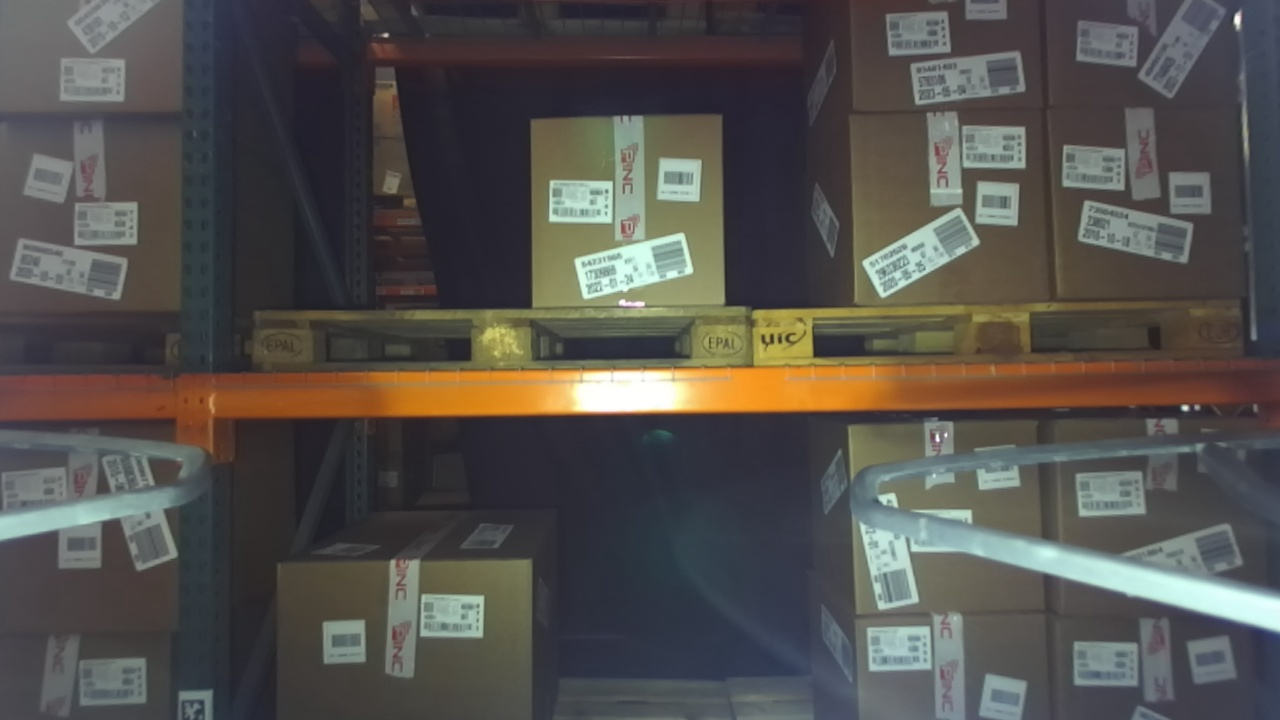box: (1028, 406, 1280, 638), (1030, 79, 1262, 322), (833, 91, 1069, 327), (830, 414, 1063, 634), (266, 541, 540, 720), (515, 102, 741, 319), (2, 101, 198, 325)
